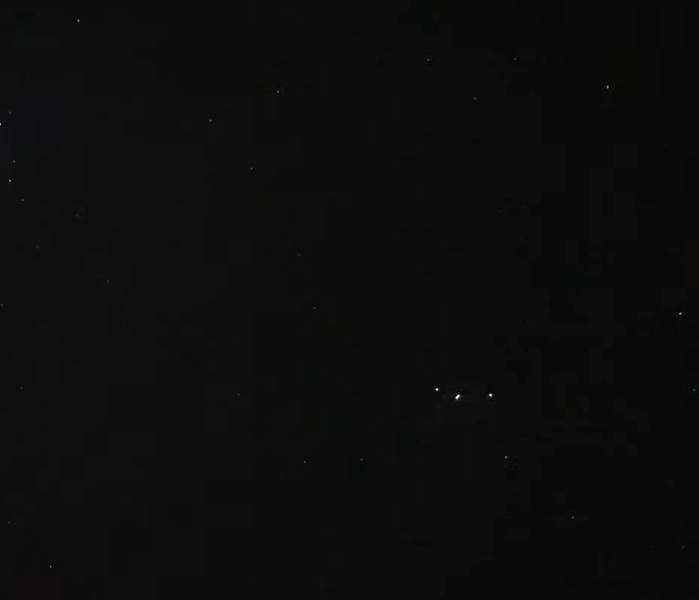Plane: (413, 380, 513, 411)
